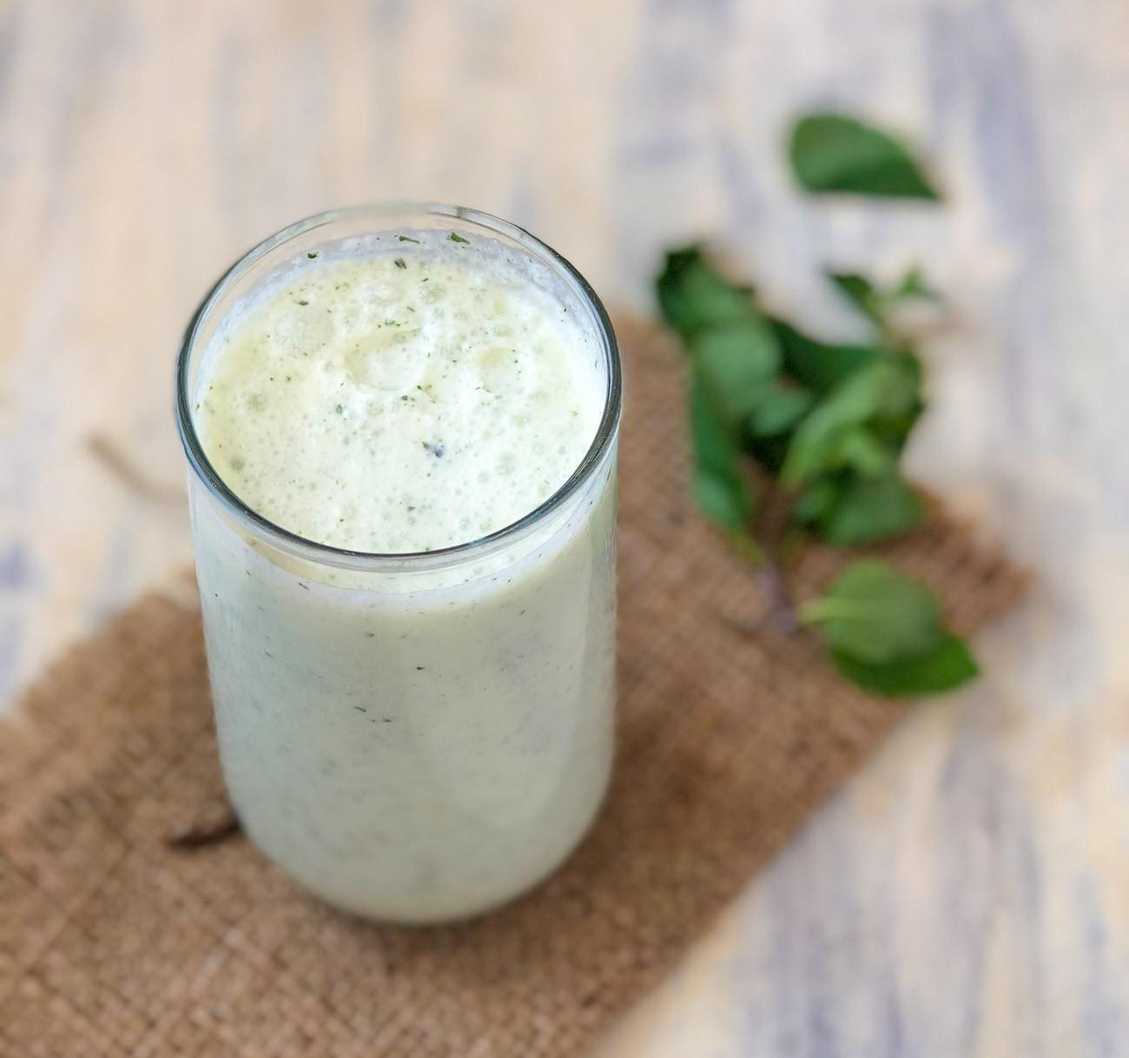Lassi: (181, 245, 624, 916)
